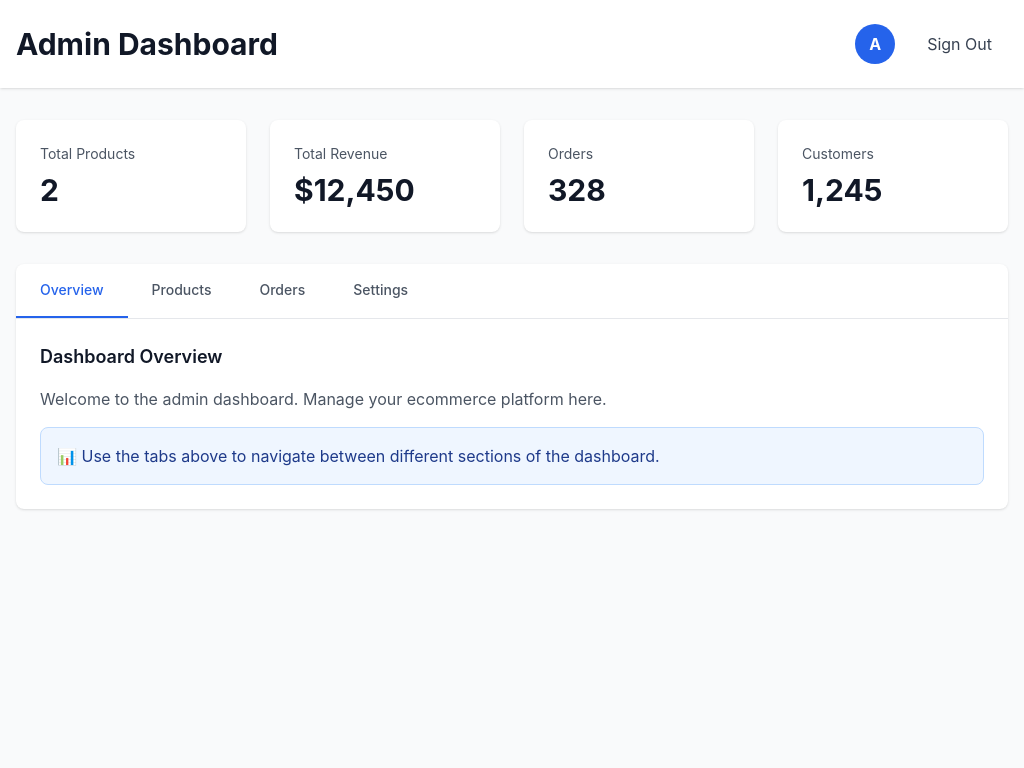
Test: AdminDashboard › switches to products tab and shows Manage Products heading
This screenshot has width=1024, height=768.
Click the button "Products" at (181, 291), box x1=128 y1=264 x2=235 y2=318
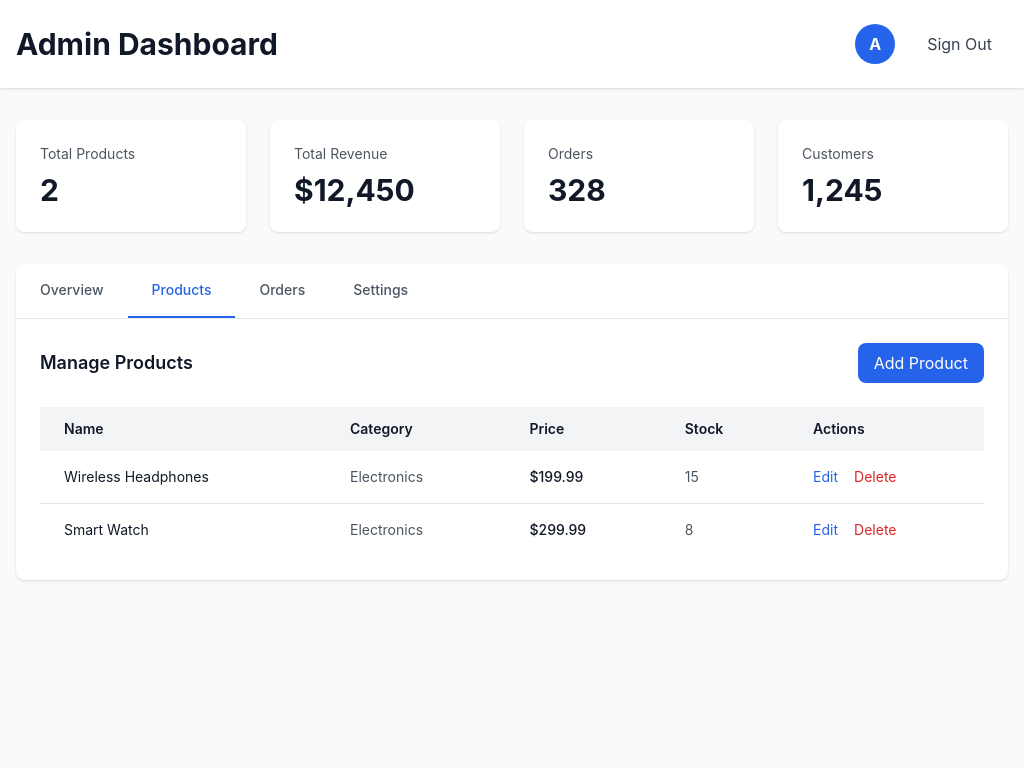
Result: the heading "Manage Products" is shown at x1=40 y1=349 x2=193 y2=377
